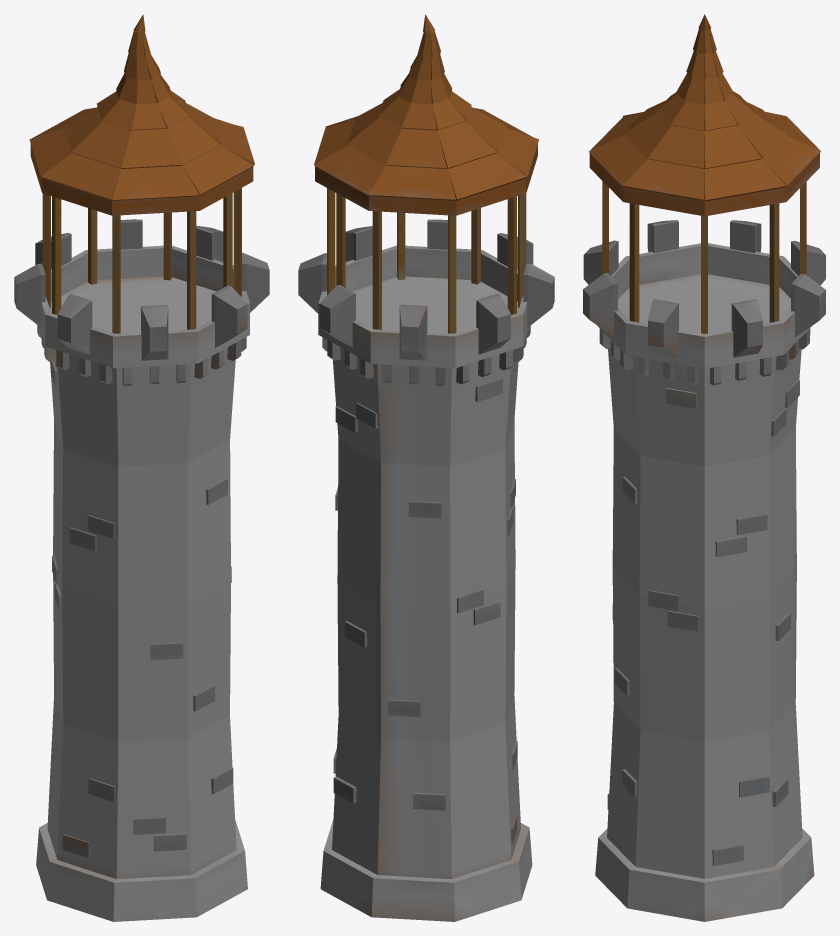
Rendered from tour-6.glb.
3 views of the same model, side by side, from view 1: azimuth 30°, elevation 25°; view 2: azimuth 150°, elevation 25°; view 3: azimuth 270°, elevation 25° (orthographic).
Visible parts, largest first — view 1: Cylinder.024_Wall_0; view 2: Cylinder.024_Wall_0; view 3: Cylinder.024_Wall_0.
Part boxes in pixels (left/top/right/bottom): Cylinder.024_Wall_0: left=14, top=14, right=269, bottom=921; Cylinder.024_Wall_0: left=298, top=14, right=554, bottom=921; Cylinder.024_Wall_0: left=583, top=14, right=825, bottom=921.
Bounding box in the file's own units: 531 × 2087 × 532.
1 material, 1 textured.
